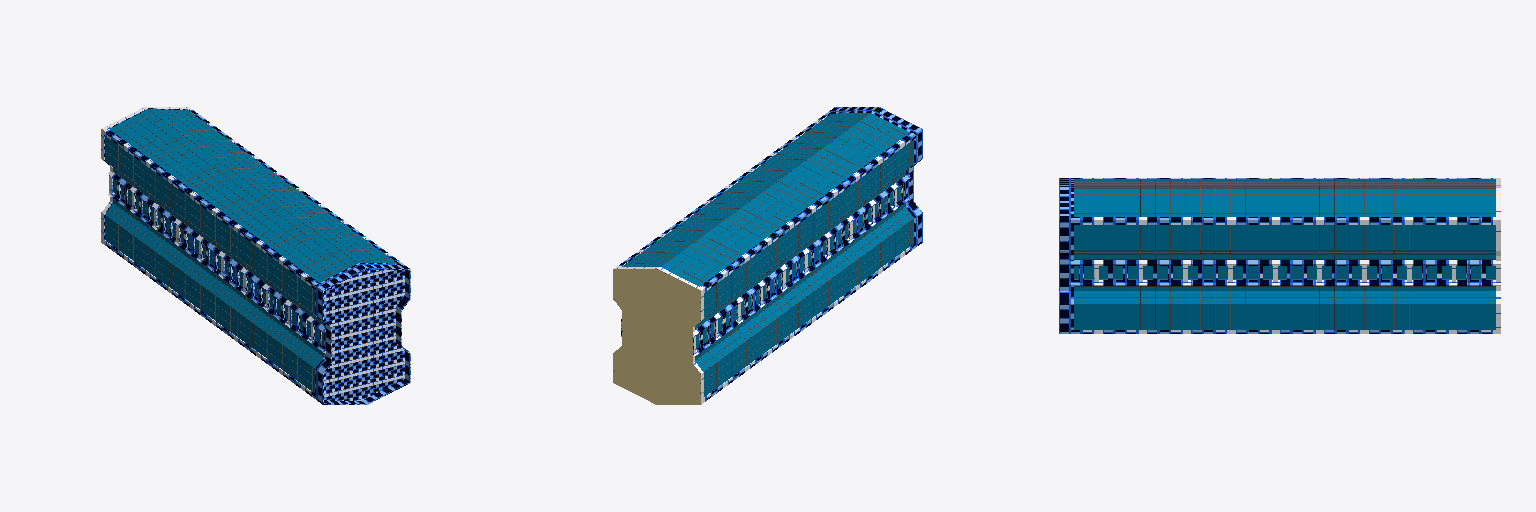
3 views of the same model, side by side, from view 1: azimuth 30°, elevation 25°; view 2: azimuth 150°, elevation 25°; view 3: azimuth 270°, elevation 25° (orthographic).
Visible parts, largest first — view 1: Glass_01, Wall_04, Wall_01, Frame_01, Wall_02, Wall_03; view 2: Glass_01, Slab_01, Wall_01, Frame_01, Wall_02, Wall_03, Wall_04; view 3: Glass_01, Wall_01, Frame_01, Wall_02, Wall_03.
Part boxes in pixels (left/top/right/bottom): Glass_01: left=105, top=109, right=396, bottom=392; Wall_04: left=104, top=108, right=410, bottom=404; Wall_01: left=101, top=109, right=402, bottom=400; Frame_01: left=106, top=109, right=391, bottom=391; Wall_02: left=101, top=107, right=404, bottom=399; Wall_03: left=318, top=265, right=409, bottom=404; Glass_01: left=623, top=113, right=913, bottom=396; Slab_01: left=613, top=268, right=700, bottom=404; Wall_01: left=614, top=113, right=917, bottom=403; Frame_01: left=614, top=113, right=913, bottom=392; Wall_02: left=615, top=110, right=917, bottom=404; Wall_03: left=830, top=107, right=922, bottom=245; Wall_04: left=621, top=164, right=914, bottom=354; Glass_01: left=1074, top=179, right=1495, bottom=329; Wall_01: left=1069, top=178, right=1500, bottom=333; Frame_01: left=1074, top=179, right=1495, bottom=329; Wall_02: left=1069, top=178, right=1500, bottom=329; Wall_03: left=1059, top=178, right=1068, bottom=333.
Bounding box in the file's own units: 816 × 1216 × 3560.
4 materials, 1 textured.